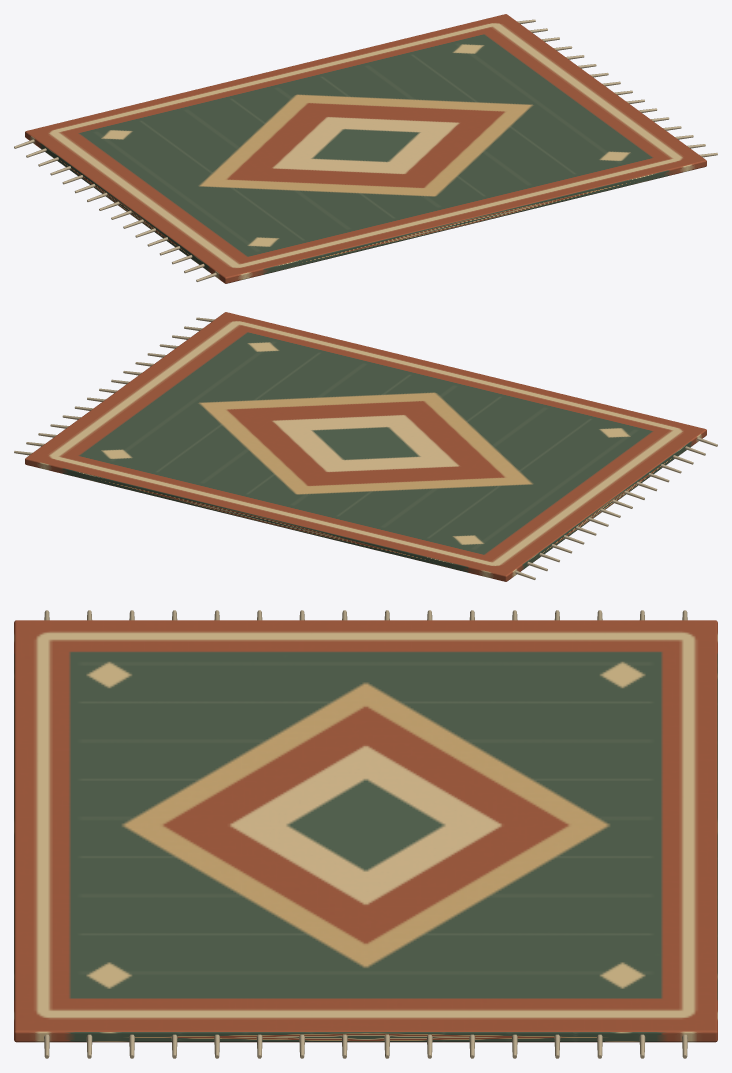
The model's file is alfombra.glb.
The picture shows the model from 3 angles, top to bottom: view 1: azimuth 30°, elevation 25°; view 2: azimuth 150°, elevation 25°; view 3: azimuth 270°, elevation 25°; orthographic projection. The views are drawn at different scales.
Parts seen in each view (by area): view 1: alfombra; view 2: alfombra; view 3: alfombra.
Part boxes in pixels (left/top/right/bottom): alfombra: left=14, top=14, right=717, bottom=283; alfombra: left=14, top=312, right=717, bottom=581; alfombra: left=14, top=610, right=717, bottom=1058.
Bounding box in the file's own units: 1.44 × 0.018 × 0.96.
Materials: 1 (1 with a texture image).
